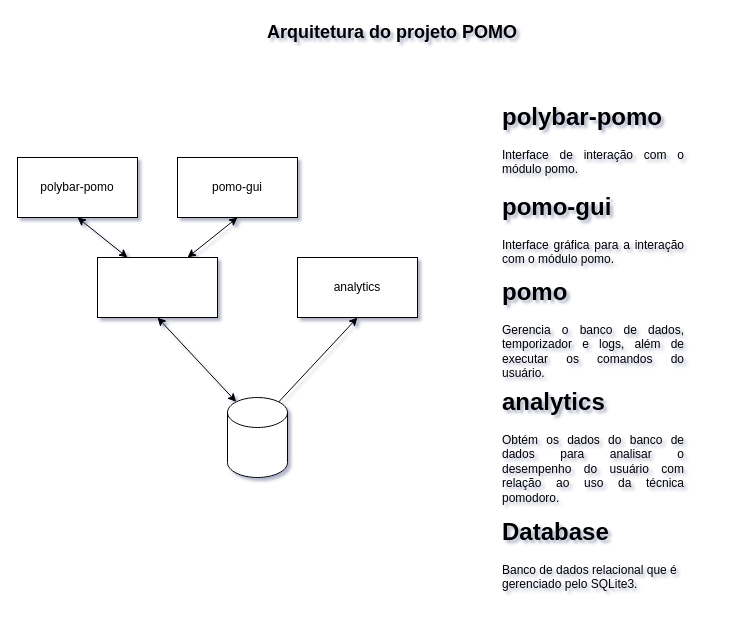
Image size: 751x625. Some labels were removed from this diagram. The centre of each missing label's shape, as x and y in pixels:
"Database" belongs at (x=257, y=437).
"pomo" belongs at (x=157, y=287).
